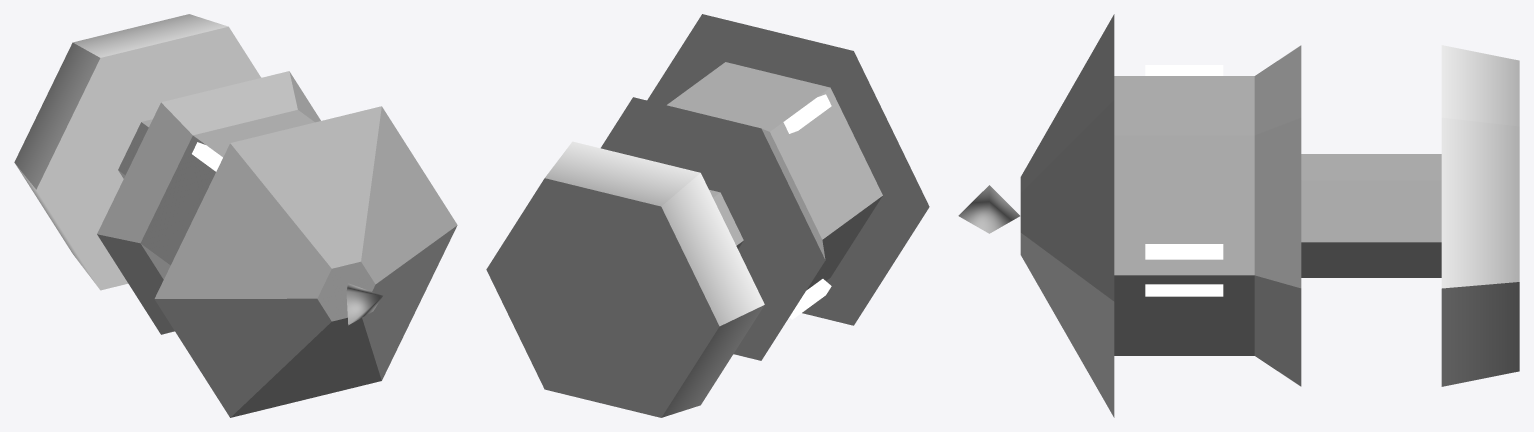
File: SM_Ishidoro_Short.glb
3 renders of one model, left to right at view 1: azimuth 30°, elevation 25°; view 2: azimuth 150°, elevation 25°; view 3: azimuth 270°, elevation 25°, orthographic. The views are drawn at different scales.
Visible parts, largest first — view 1: asset_ishidoro_short; view 2: asset_ishidoro_short; view 3: asset_ishidoro_short.
Boxes of the visible parts, x1,y1,x2,y2 form: asset_ishidoro_short: [14, 14, 457, 417]; asset_ishidoro_short: [486, 14, 929, 417]; asset_ishidoro_short: [958, 14, 1519, 417].
Size of the model in its own units: 0.52 by 0.4503 by 0.72.
Materials: 2 (2 with a texture image).
